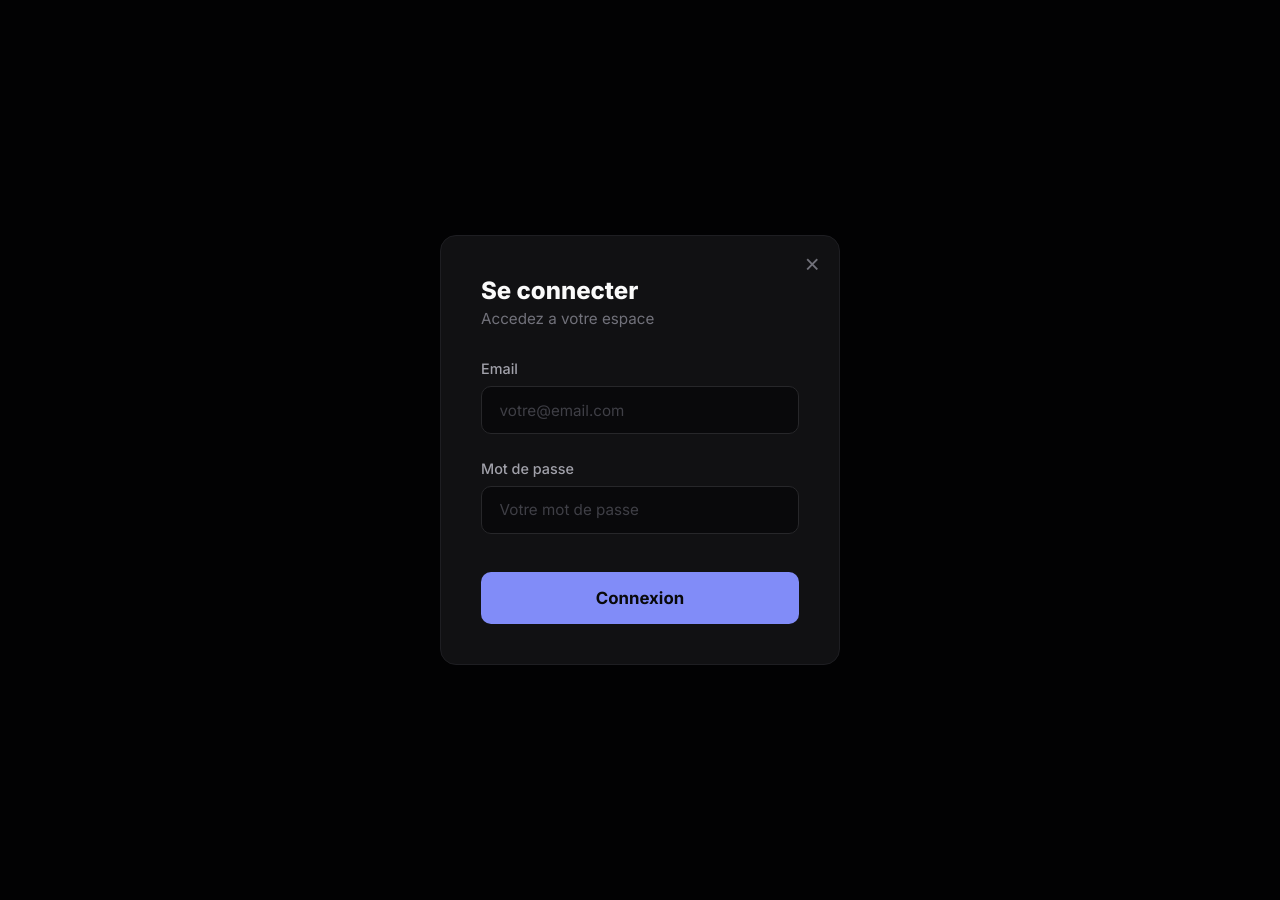
Test: LoginModal › efface le message d'erreur quand on tape dans un champ
The width and height of the screenshot is (1280, 900).
Click the button "Connexion" at (640, 598), box x1=481 y1=572 x2=799 y2=624
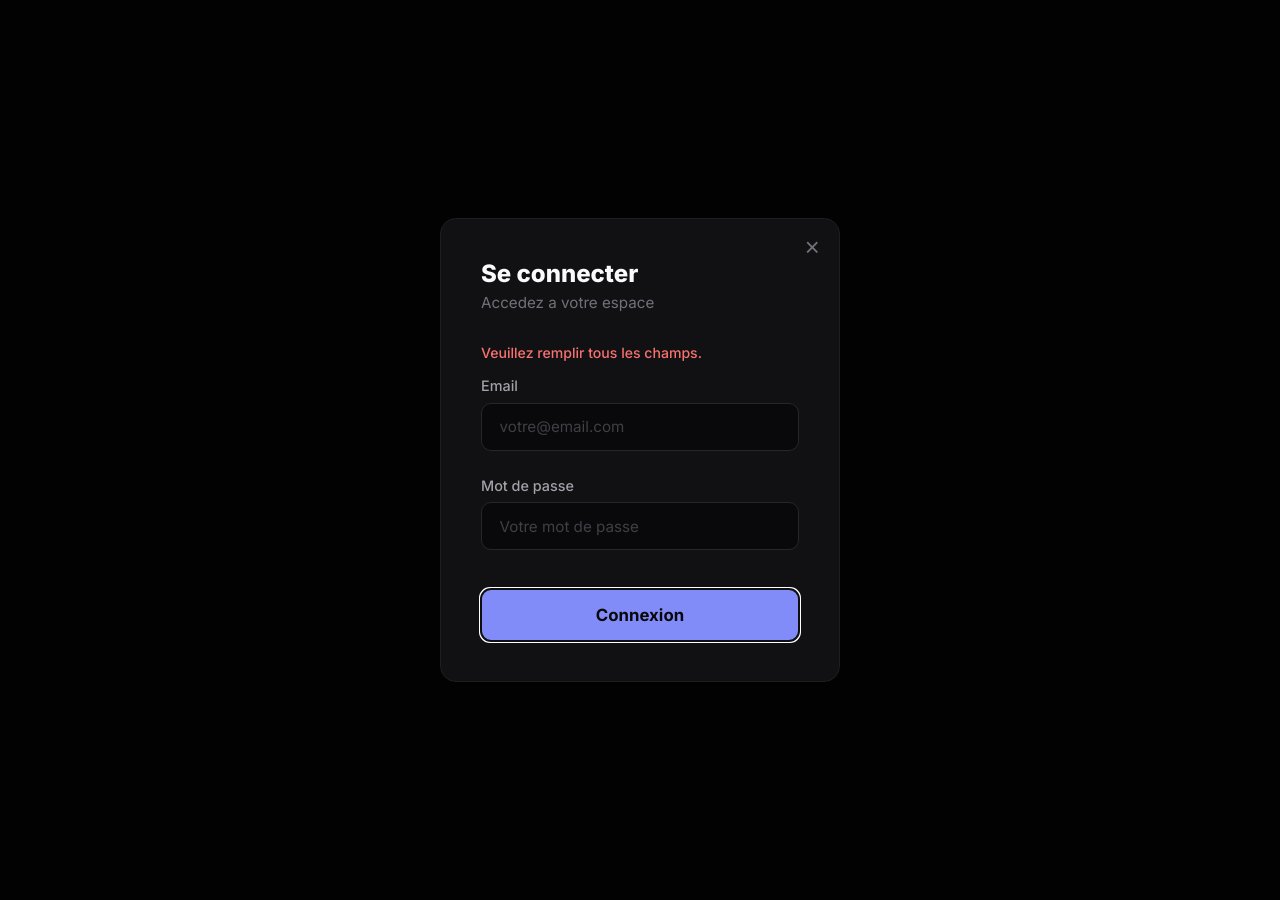
Result: the text "Veuillez remplir tous les champs." is shown at x1=481 y1=344 x2=702 y2=361
Type "a" into the field labelled "Email" at (640, 427), box x1=481 y1=403 x2=799 y2=451
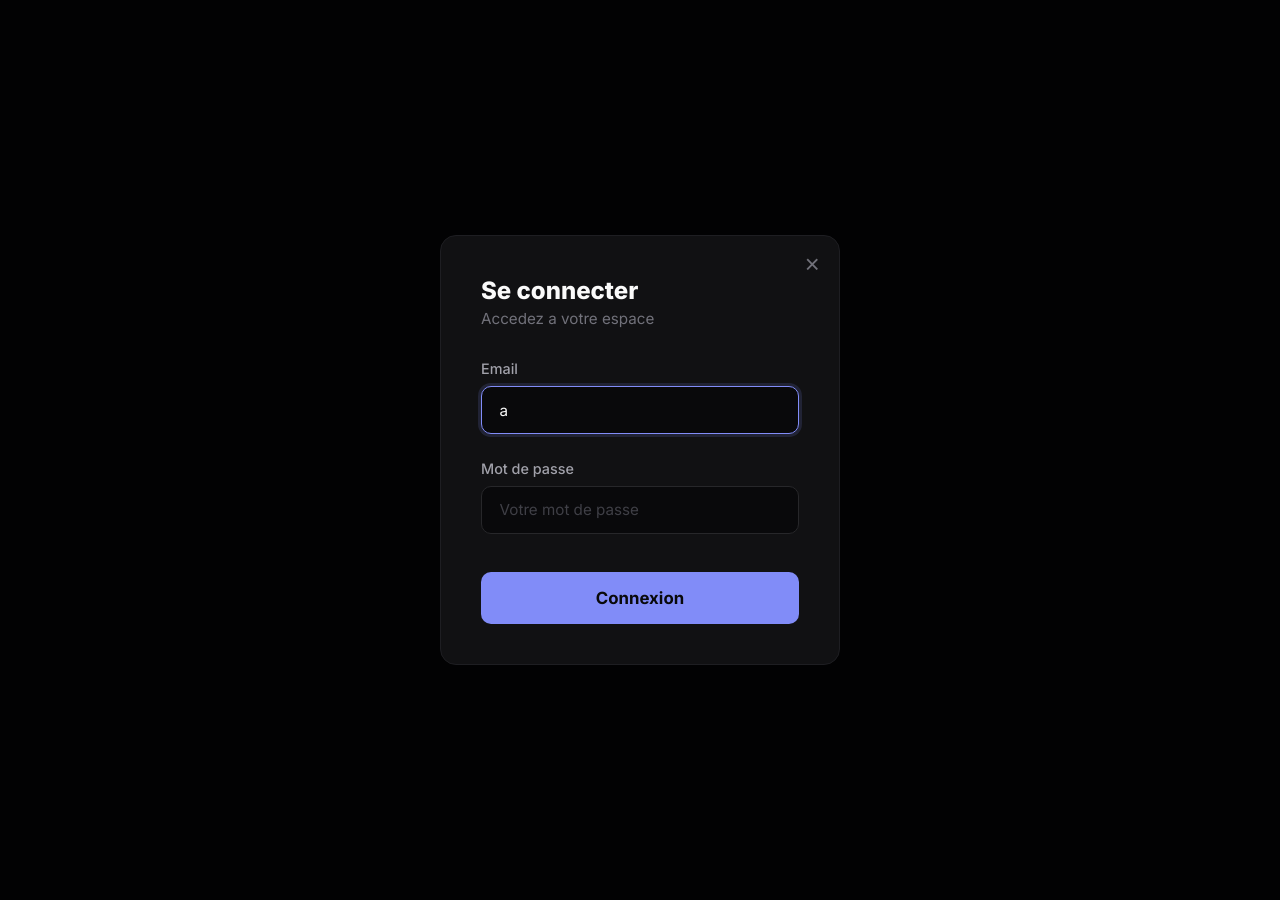
Result: the text "Veuillez remplir tous les champs." is gone
